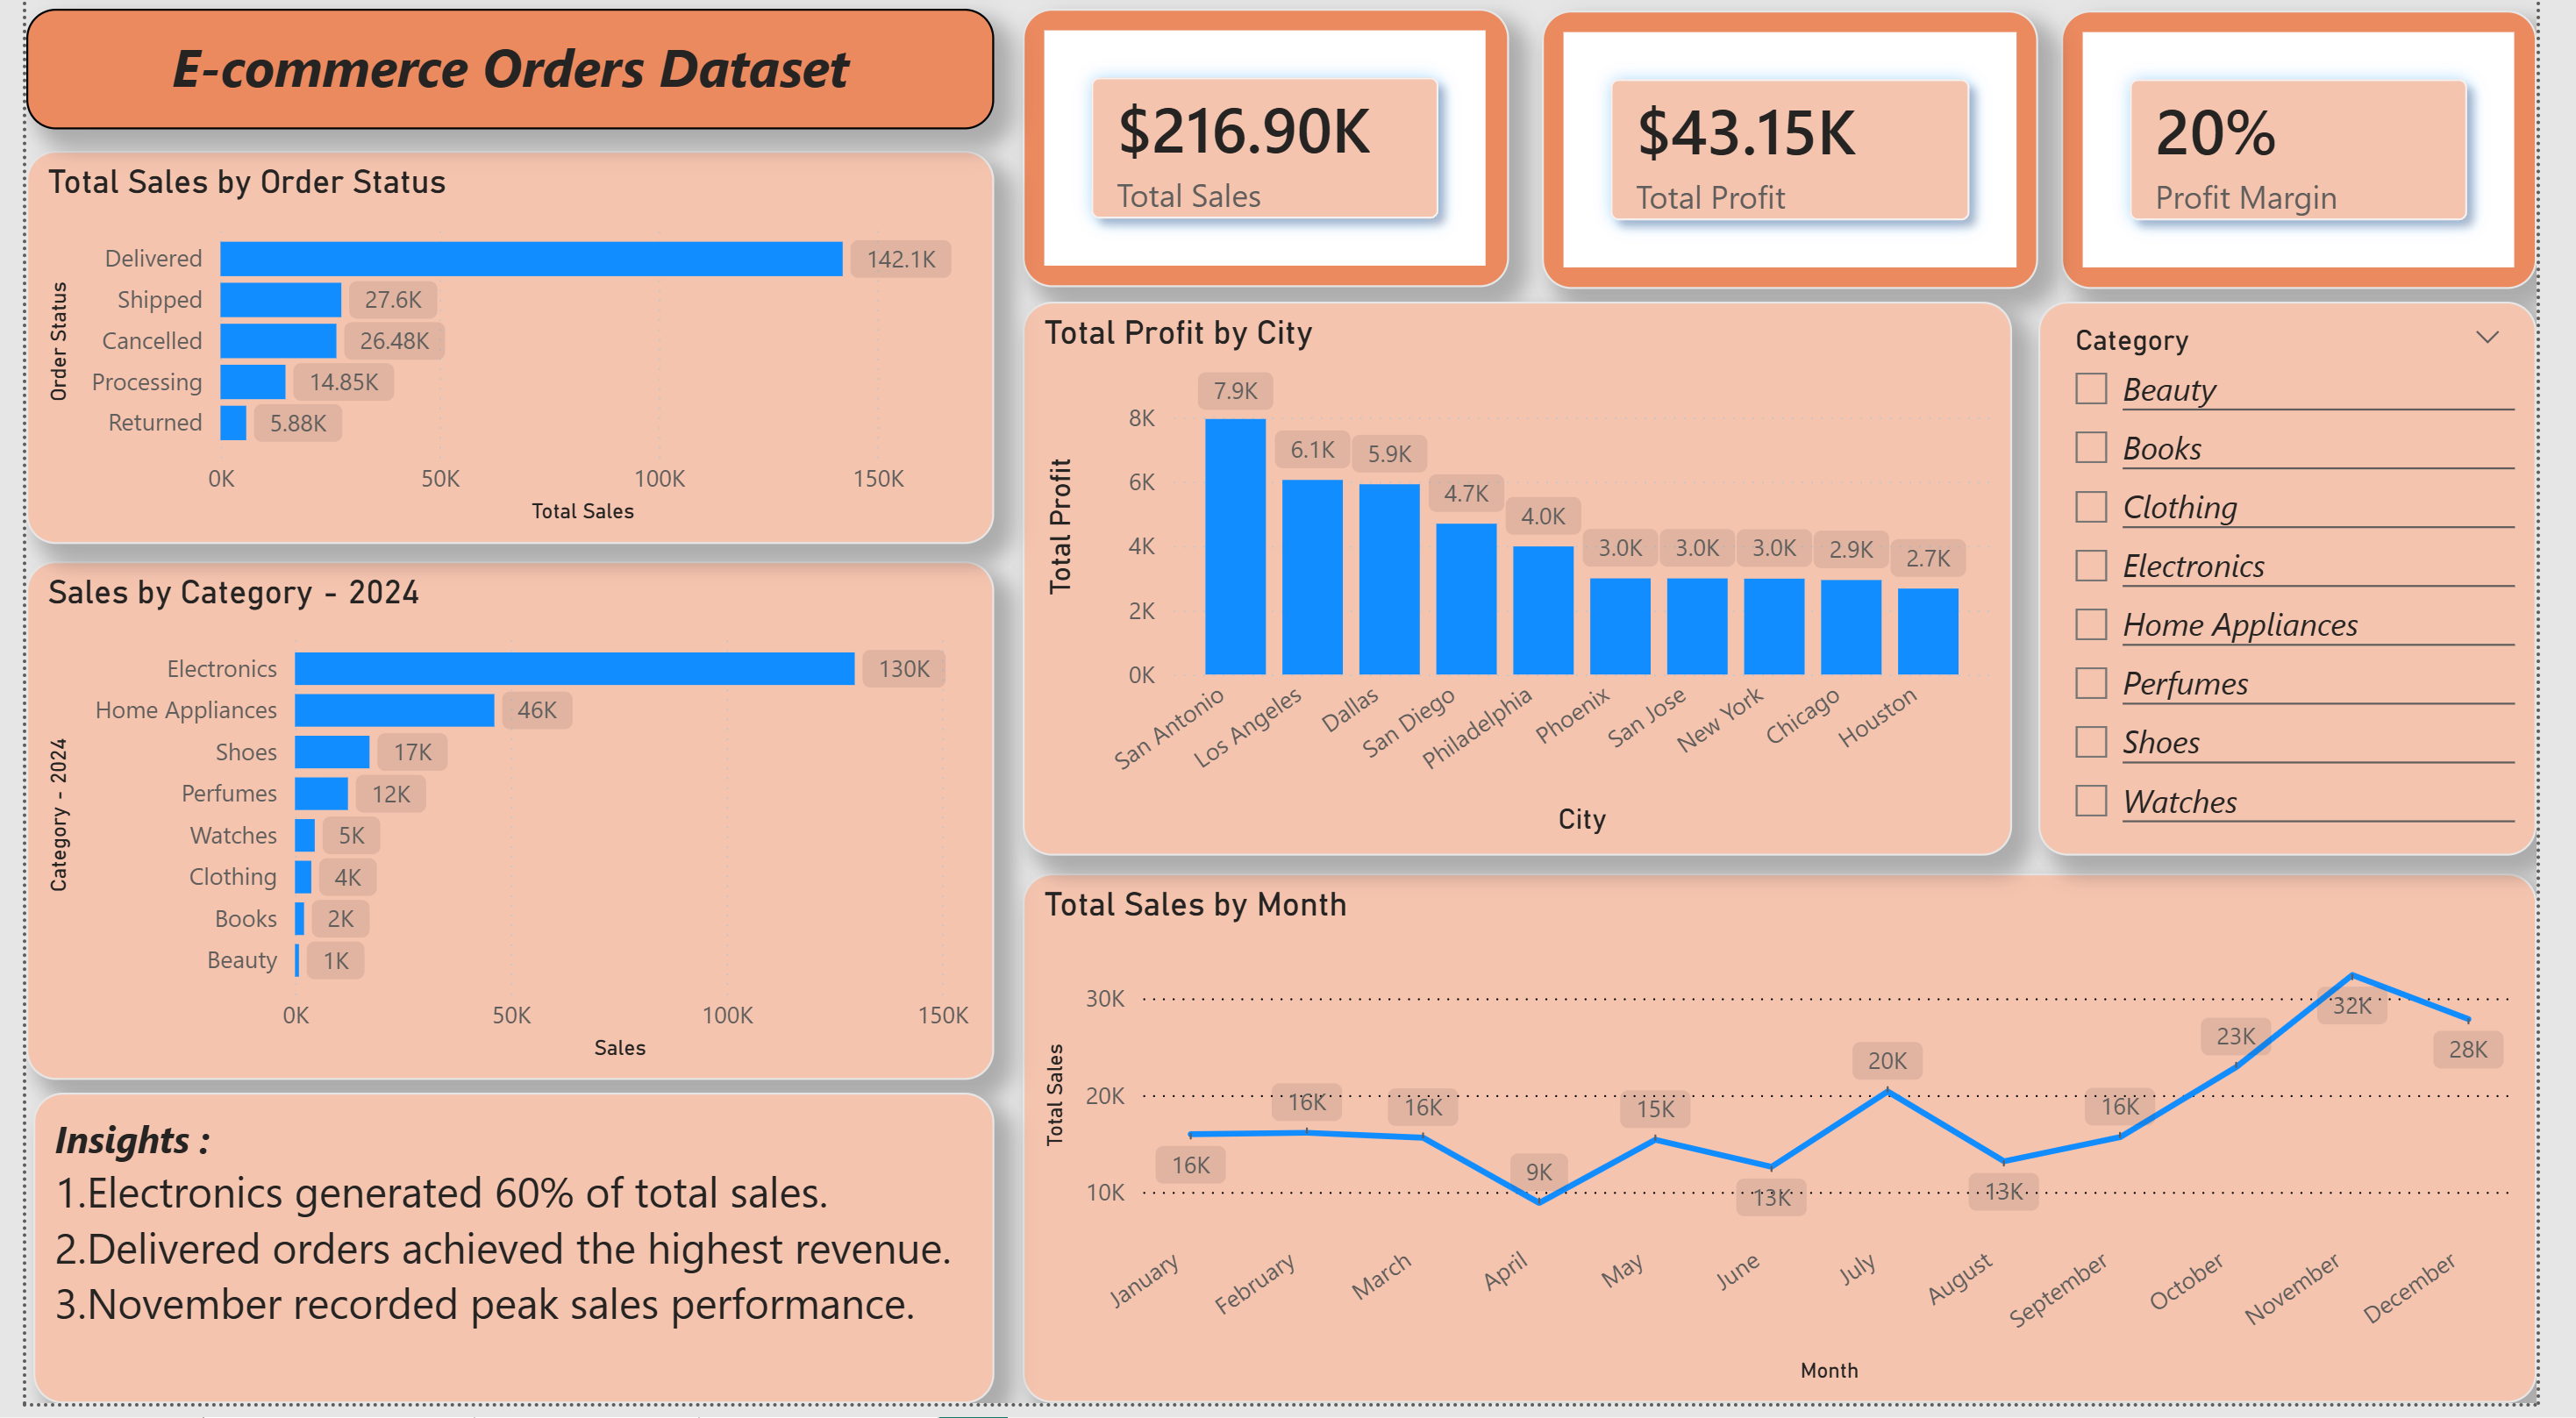

The dashboard page shown, as its layout file describes it:
{"tool":"powerbi","page":{"name":"Executive Dashboard","canvas":[1280,720],"ordinal":0},"visuals":[{"type":"cardVisual","fields":{"Data":["Sum(E-Commerce Orders Dataset  —  2024 (Orders).Total ($))"]},"box":[508,8.9,247.8,142.2],"z":0},{"type":"cardVisual","fields":{"Data":["E-Commerce Orders Dataset  —  2024 (Orders).Profit Margin"]},"box":[1037.5,9.8,242.4,142.2],"z":1000},{"type":"cardVisual","fields":{"Data":["Sum(E-Commerce Orders Dataset  —  2024 (Orders).Profit ($))"]},"box":[772.8,9.8,253.1,142.2],"z":2000},{"type":"lineChart","fields":{"Category":["E-Commerce Orders Dataset  —  2024 (Orders).Clean date.Variation.Date Hierarchy.Month"],"Y":["Sum(E-Commerce Orders Dataset  —  2024 (Orders).Total ($))"]},"box":[508,449.9,771.9,270.1],"z":3000},{"type":"clusteredBarChart","fields":{"Category":["E-Commerce Orders Dataset  —  2024 (Orders).Category"],"Y":["Sum(E-Commerce Orders Dataset  —  2024 (Orders).Total ($))"]},"box":[0,290.7,493.7,264.7],"z":4000},{"type":"columnChart","fields":{"Category":["E-Commerce Orders Dataset  —  2024 (Orders).City"],"Y":["Sum(E-Commerce Orders Dataset  —  2024 (Orders).Profit ($))"]},"box":[508,158.3,504.4,282.6],"z":5000},{"type":"clusteredBarChart","fields":{"Category":["E-Commerce Orders Dataset  —  2024 (Orders).Order Status"],"Y":["Sum(E-Commerce Orders Dataset  —  2024 (Orders).Total ($))"]},"box":[0,81.4,493.7,200.3],"z":6000},{"type":"textbox","box":[0,8.9,493.7,61.7],"z":7000},{"type":"slicer","fields":{"Values":["E-Commerce Orders Dataset  —  2024 (Orders).Category"]},"box":[1025.9,158.3,254,282.6],"z":8000},{"type":"textbox","box":[0,561.7,493.7,158.3],"z":9000}]}

Visuals, with their boxes in screenshot pixels (x1, y1, x2, y2), scaled from the page's 1280x720 canvas onto the 2576x1418 screenshot:
cardVisual - Sum(E-Commerce Orders Dataset  —  2024 (Orders).Total ($)): box=[1023, 18, 1521, 297]
cardVisual - E-Commerce Orders Dataset  —  2024 (Orders).Profit Margin: box=[2088, 19, 2575, 299]
cardVisual - Sum(E-Commerce Orders Dataset  —  2024 (Orders).Profit ($)): box=[1555, 19, 2065, 299]
lineChart - E-Commerce Orders Dataset  —  2024 (Orders).Clean date.Variation.Date Hierarchy.Month x Sum(E-Commerce Orders Dataset  —  2024 (Orders).Total ($)): box=[1023, 886, 2575, 1417]
clusteredBarChart - E-Commerce Orders Dataset  —  2024 (Orders).Category x Sum(E-Commerce Orders Dataset  —  2024 (Orders).Total ($)): box=[0, 573, 994, 1094]
columnChart - E-Commerce Orders Dataset  —  2024 (Orders).City x Sum(E-Commerce Orders Dataset  —  2024 (Orders).Profit ($)): box=[1023, 312, 2037, 868]
clusteredBarChart - E-Commerce Orders Dataset  —  2024 (Orders).Order Status x Sum(E-Commerce Orders Dataset  —  2024 (Orders).Total ($)): box=[0, 160, 994, 555]
textbox: box=[0, 18, 994, 139]
slicer - E-Commerce Orders Dataset  —  2024 (Orders).Category: box=[2065, 312, 2575, 868]
textbox: box=[0, 1106, 994, 1417]
